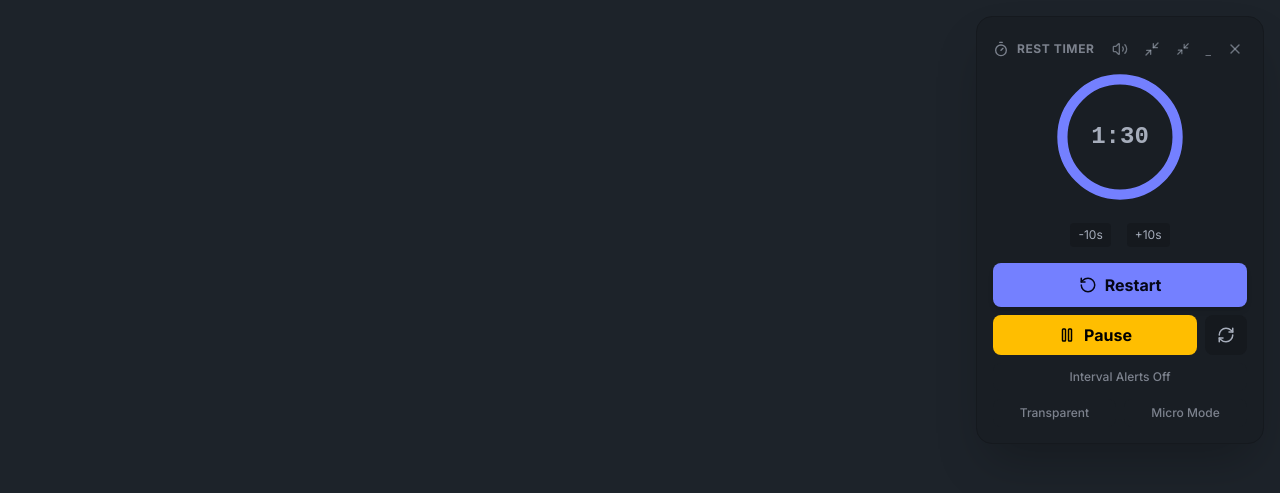
Test case: RestTimer › should show compact controls in docked mode
The image size is (1280, 493).
# Switch to docked mode
Step 1. Click the button titled "Dock" → click(1152, 49), box [1140, 33, 1164, 65]
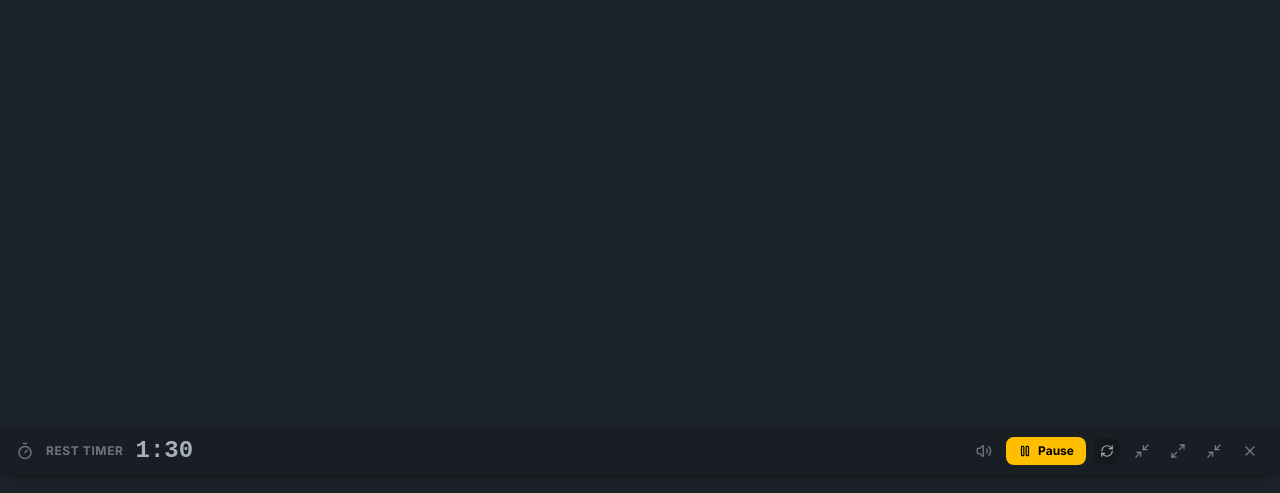
Expected: the text "1:30" is shown, [136, 435, 193, 467]
Expected: the button "Pause" is shown, [1006, 437, 1086, 465]
